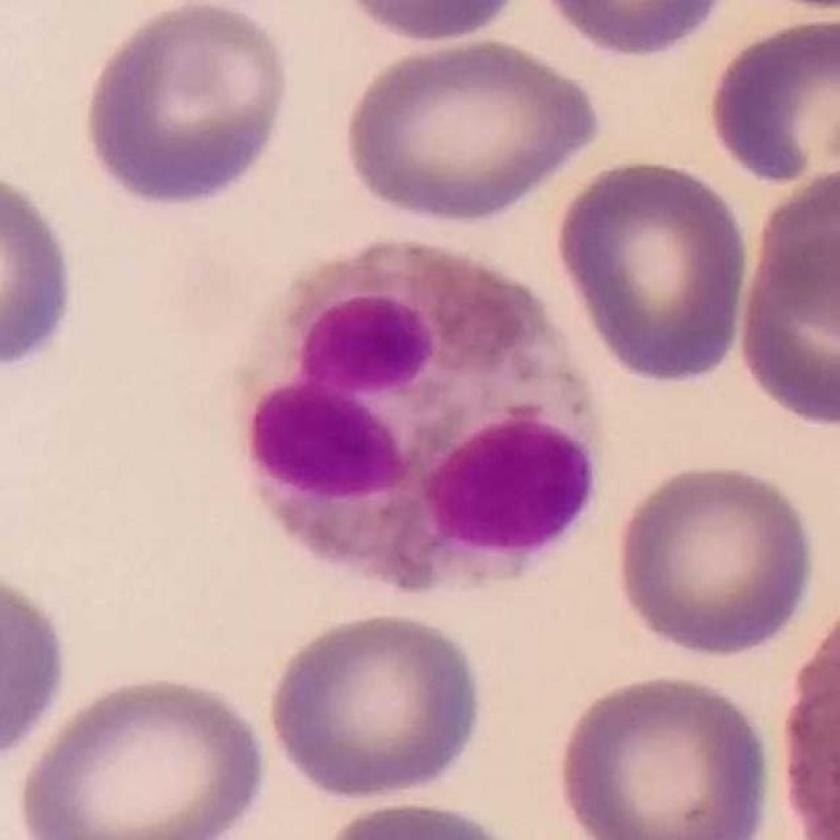eosinophil: (237, 238, 601, 595)
